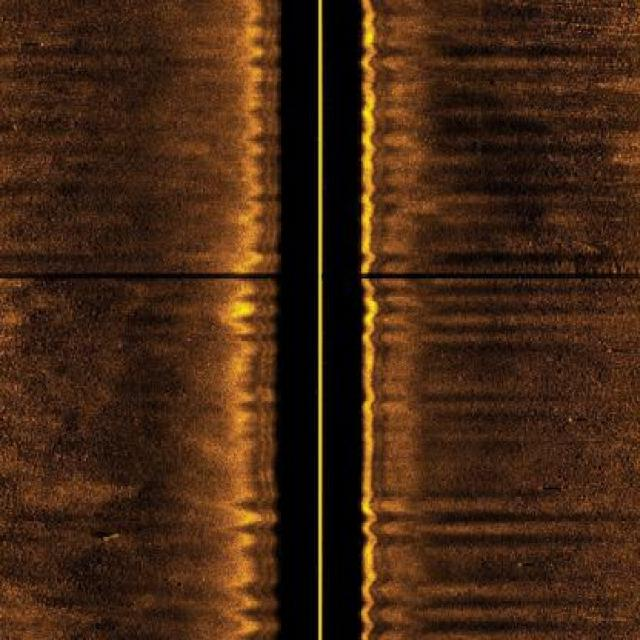mine: (84, 528, 124, 543)
